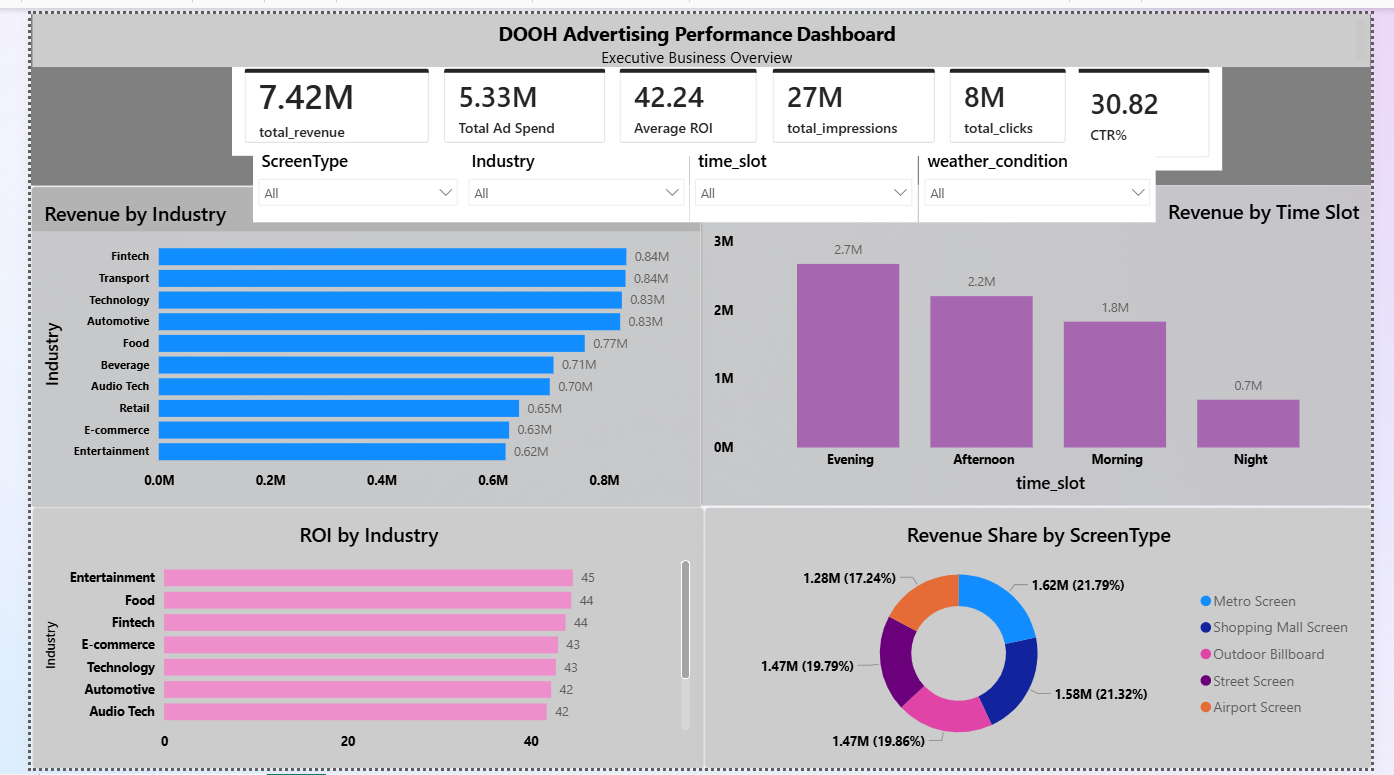

The dashboard page shown, as its layout file describes it:
{"tool":"powerbi","page":{"name":"Page 1","canvas":[1280,720],"ordinal":0},"visuals":[{"type":"shape","box":[0,0,1280.4,163.8],"z":0},{"type":"cardVisual","fields":{"Data":["lemma_industry_grade_doooh_dataset.Average ROI"]},"box":[550.4,39.8,155.9,95.4],"z":0,"group":"g1"},{"type":"group","id":"g1","title":"Group 1","box":[0,39.8,1138.9,431.1],"z":1000},{"type":"cardVisual","fields":{"Data":["lemma_industry_grade_doooh_dataset.CTR%"]},"box":[986.2,40.2,152.7,109.8],"z":1000,"group":"g1"},{"type":"cardVisual","fields":{"Data":["lemma_industry_grade_doooh_dataset.Total Ad Spend"]},"box":[381.7,39.8,178.1,95.4],"z":2000,"group":"g1"},{"type":"clusteredColumnChart","title":"Revenue by Time Slot","fields":{"Category":["lemma_industry_grade_doooh_dataset.time_slot"],"Y":["lemma_industry_grade_doooh_dataset.total_revenue"]},"box":[639.4,163.8,641,307],"z":2000},{"type":"cardVisual","fields":{"Data":["lemma_industry_grade_doooh_dataset.total_clicks"]},"box":[865.3,39.8,135.2,95.4],"z":3000,"group":"g1"},{"type":"barChart","title":"ROI by Industry","fields":{"Category":["lemma_industry_grade_doooh_dataset.Industry"],"Y":["lemma_industry_grade_doooh_dataset.Average ROI"]},"box":[1.6,470.8,641,249.7],"z":3000},{"type":"cardVisual","fields":{"Data":["lemma_industry_grade_doooh_dataset.total_impressions"]},"box":[696.7,39.8,179.7,95.4],"z":4000,"group":"g1"},{"type":"donutChart","title":"Revenue Share by ScreenType","fields":{"Category":["lemma_industry_grade_doooh_dataset.ScreenType"],"Y":["lemma_industry_grade_doooh_dataset.total_revenue"]},"box":[643,471,637,249],"z":4000},{"type":"slicer","title":"Screen Type","fields":{"Values":["lemma_industry_grade_doooh_dataset.ScreenType"]},"box":[211.6,128.8,200.4,70],"z":5000},{"type":"cardVisual","fields":{"Data":["lemma_industry_grade_doooh_dataset.total_revenue"]},"box":[192.5,39.8,200.4,95.4],"z":6000,"group":"g1"},{"type":"slicer","fields":{"Values":["lemma_industry_grade_doooh_dataset.time_slot"]},"box":[628.3,128.8,217.9,70],"z":6000},{"type":"actionButton","box":[0,0,100,40],"z":7000},{"type":"clusteredBarChart","title":"Revenue by Industry","fields":{"Category":["lemma_industry_grade_doooh_dataset.Industry"],"Y":["lemma_industry_grade_doooh_dataset.total_revenue"]},"box":[0,163.9,641,307],"z":7000,"group":"g1"},{"type":"slicer","fields":{"Values":["lemma_industry_grade_doooh_dataset.weather_condition"]},"box":[847.8,128.8,225.9,70],"z":8000},{"type":"slicer","fields":{"Values":["lemma_industry_grade_doooh_dataset.Industry"]},"box":[412,128.8,216.3,70],"z":9000},{"type":"textbox","box":[1.6,0,1277.3,50.9],"z":10000}]}

Visuals, with their boxes in screenshot pixels (x1, y1, x2, y2), scaled from the page's 1280x720 canvas onto the 1394x775 screenshot:
shape: x1=0, y1=0, x2=1393, y2=176
cardVisual - lemma_industry_grade_doooh_dataset.Average ROI: x1=599, y1=43, x2=769, y2=146
"Group 1" group: x1=0, y1=43, x2=1240, y2=507
cardVisual - lemma_industry_grade_doooh_dataset.CTR%: x1=1074, y1=43, x2=1240, y2=161
cardVisual - lemma_industry_grade_doooh_dataset.Total Ad Spend: x1=416, y1=43, x2=610, y2=146
"Revenue by Time Slot" clusteredColumnChart: x1=696, y1=176, x2=1393, y2=507
cardVisual - lemma_industry_grade_doooh_dataset.total_clicks: x1=942, y1=43, x2=1090, y2=146
"ROI by Industry" barChart: x1=2, y1=507, x2=700, y2=774
cardVisual - lemma_industry_grade_doooh_dataset.total_impressions: x1=759, y1=43, x2=954, y2=146
"Revenue Share by ScreenType" donutChart: x1=700, y1=507, x2=1393, y2=774
"Screen Type" slicer: x1=230, y1=139, x2=449, y2=214
cardVisual - lemma_industry_grade_doooh_dataset.total_revenue: x1=210, y1=43, x2=428, y2=146
slicer - lemma_industry_grade_doooh_dataset.time_slot: x1=684, y1=139, x2=922, y2=214
actionButton: x1=0, y1=0, x2=109, y2=43
"Revenue by Industry" clusteredBarChart: x1=0, y1=176, x2=698, y2=507
slicer - lemma_industry_grade_doooh_dataset.weather_condition: x1=923, y1=139, x2=1169, y2=214
slicer - lemma_industry_grade_doooh_dataset.Industry: x1=449, y1=139, x2=684, y2=214
textbox: x1=2, y1=0, x2=1393, y2=55
